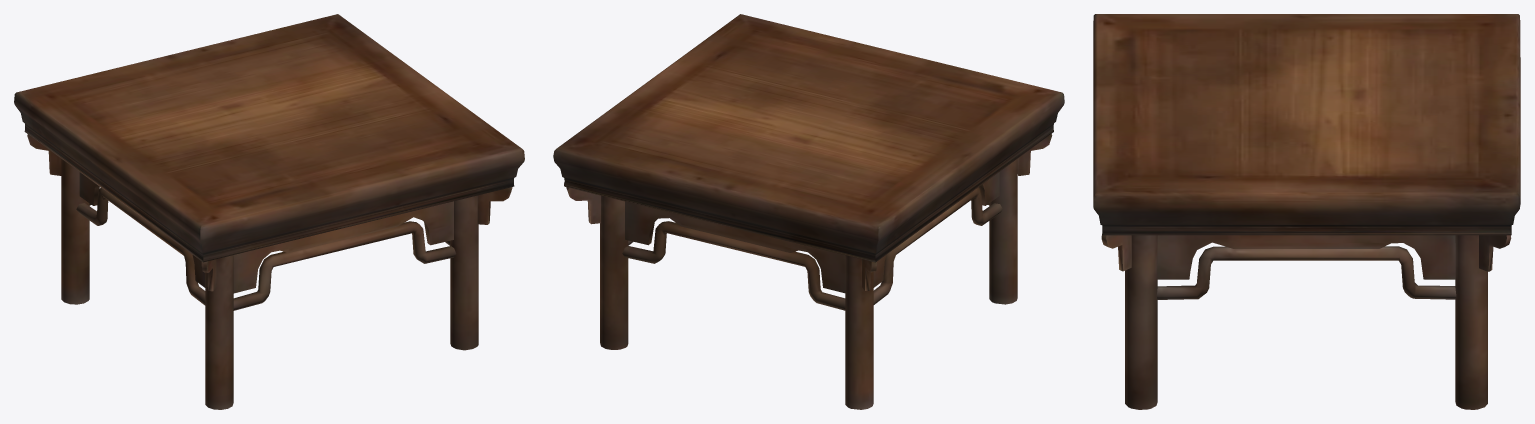
The model's file is chinese_tea_table.glb.
3 renders of one model, left to right at view 1: azimuth 30°, elevation 25°; view 2: azimuth 150°, elevation 25°; view 3: azimuth 270°, elevation 25°, orthographic. The views are drawn at different scales.
Visible parts, largest first — view 1: chinese_tea_table; view 2: chinese_tea_table; view 3: chinese_tea_table.
Boxes of the visible parts, x1,y1,x2,y2 form: chinese_tea_table: (14, 14, 524, 409); chinese_tea_table: (553, 14, 1064, 409); chinese_tea_table: (1093, 14, 1520, 409).
Size of the model in its own units: 0.8409 by 0.4986 by 0.8351.
Materials: 1 (1 with a texture image).
